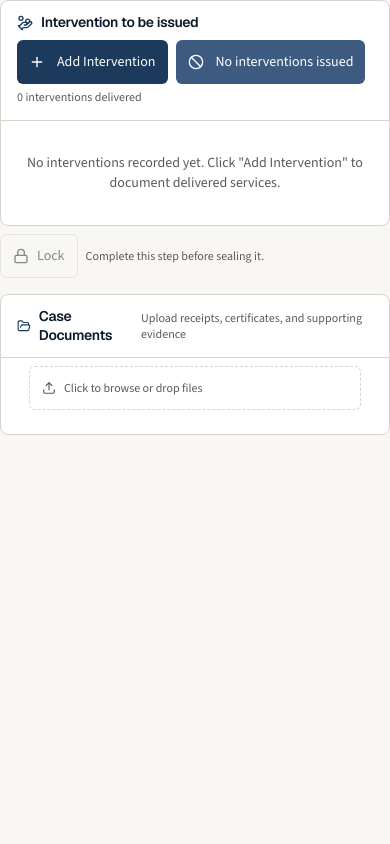
Test: StepImplementHIP adhoc intervention › enrolled-program scoping › shows the program-configured required form for an intervention that obliges one
Click the button "Add Intervention" at (92, 62), box [17, 40, 168, 84]
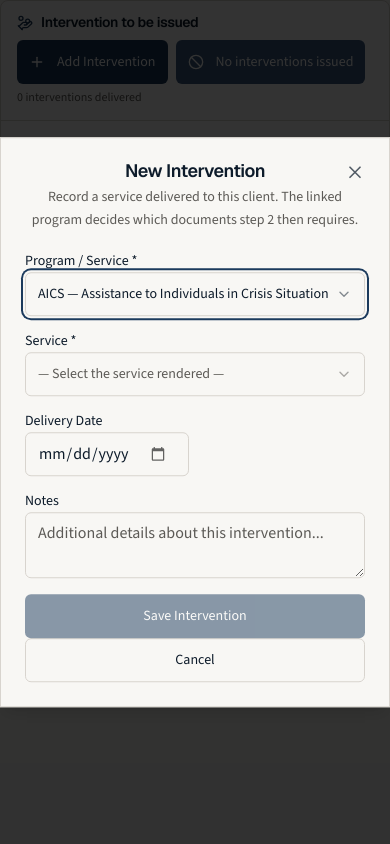
Expected: the text "Must accomplish" is not shown
Result: the dialog is shown
Click the dropdown named "Service *" at (195, 374), box [25, 352, 365, 396]
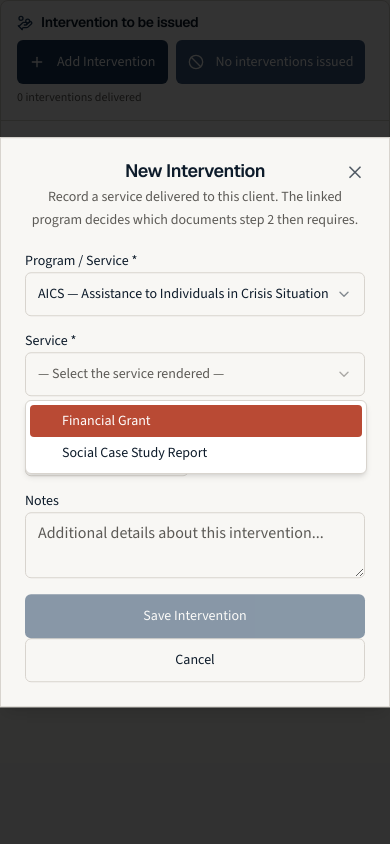
Click the option "Social Case Study Report" at (135, 452), box [62, 443, 207, 462]
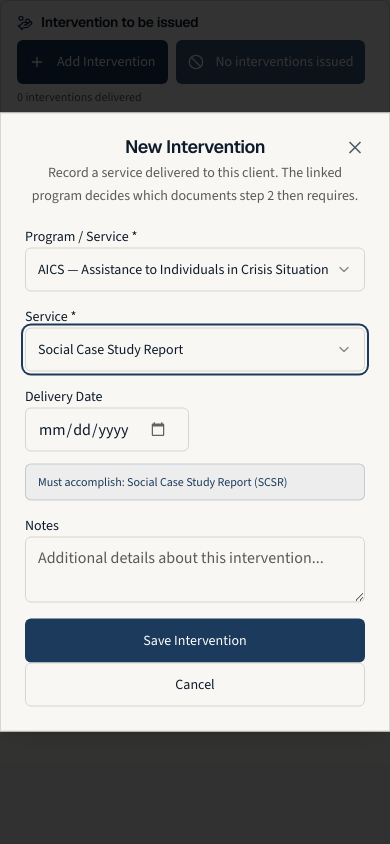
Result: the text "Must accomplish: Social Case Study Report (SCSR)" is shown at [25, 463, 365, 500]
Click the dropdown named "Service *" at (111, 348), box [25, 327, 365, 371]
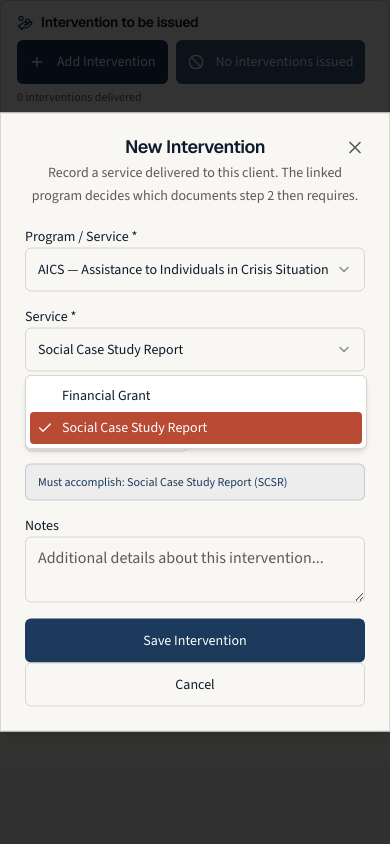
Click the option "Financial Grant" at (106, 396), box [62, 386, 151, 405]
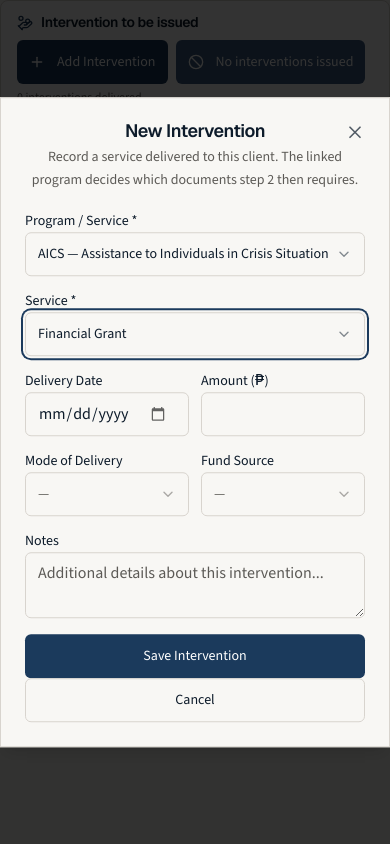
Result: the text "Must accomplish" is gone
